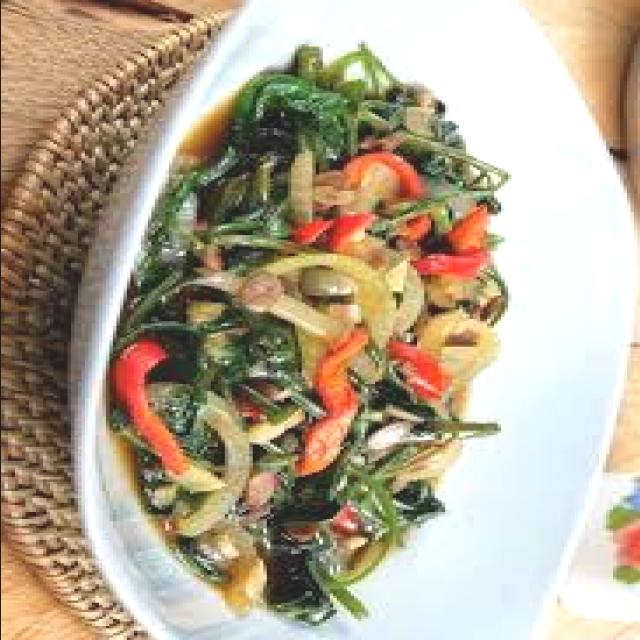tumis kangkung: (101, 47, 507, 626)
